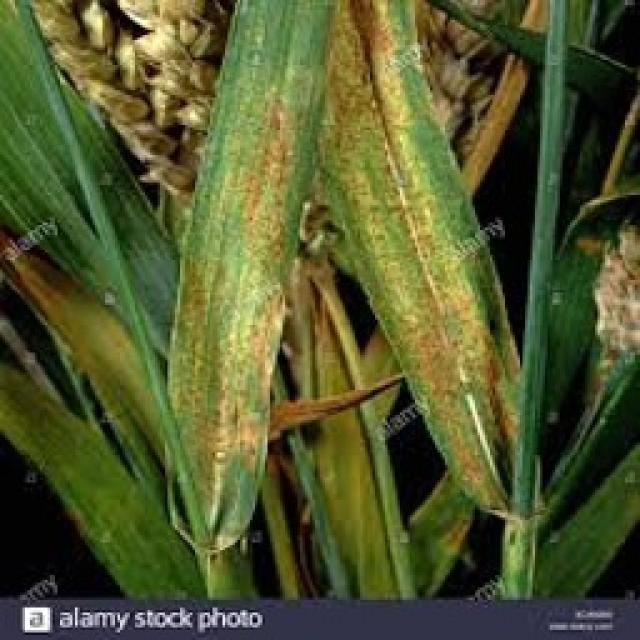Healthy Wheat: (0, 0, 638, 598)
